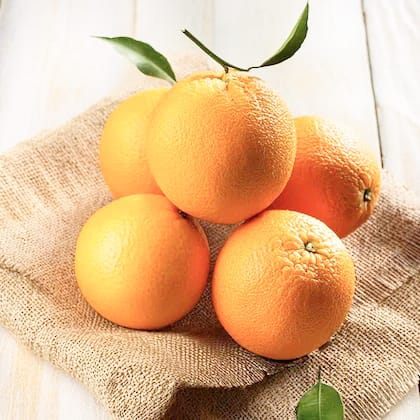Good Orange: (163, 61, 293, 221), (75, 189, 212, 332), (215, 207, 336, 355)
